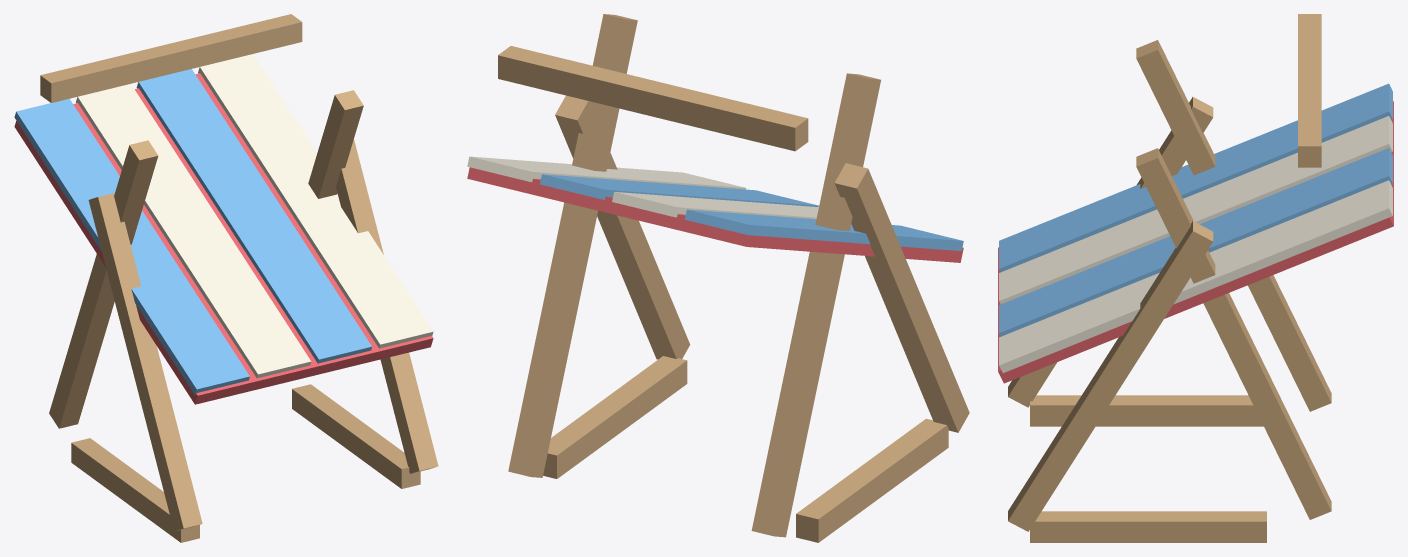
File: lawn-mowing-simulator-kit-deck-chair-4a1837a7__27398.glb
3 renders of one model, left to right at view 1: azimuth 30°, elevation 25°; view 2: azimuth 150°, elevation 25°; view 3: azimuth 270°, elevation 25°, orthographic. The views are drawn at different scales.
Parts seen in each view (by area): view 1: deck-chair; view 2: deck-chair; view 3: deck-chair.
Boxes of the visible parts, <box> form: deck-chair: <box>14,14,438,542</box>; deck-chair: <box>467,14,969,542</box>; deck-chair: <box>998,14,1393,542</box>.
Size of the model in its own units: 0.67 by 0.93 by 0.8344.
